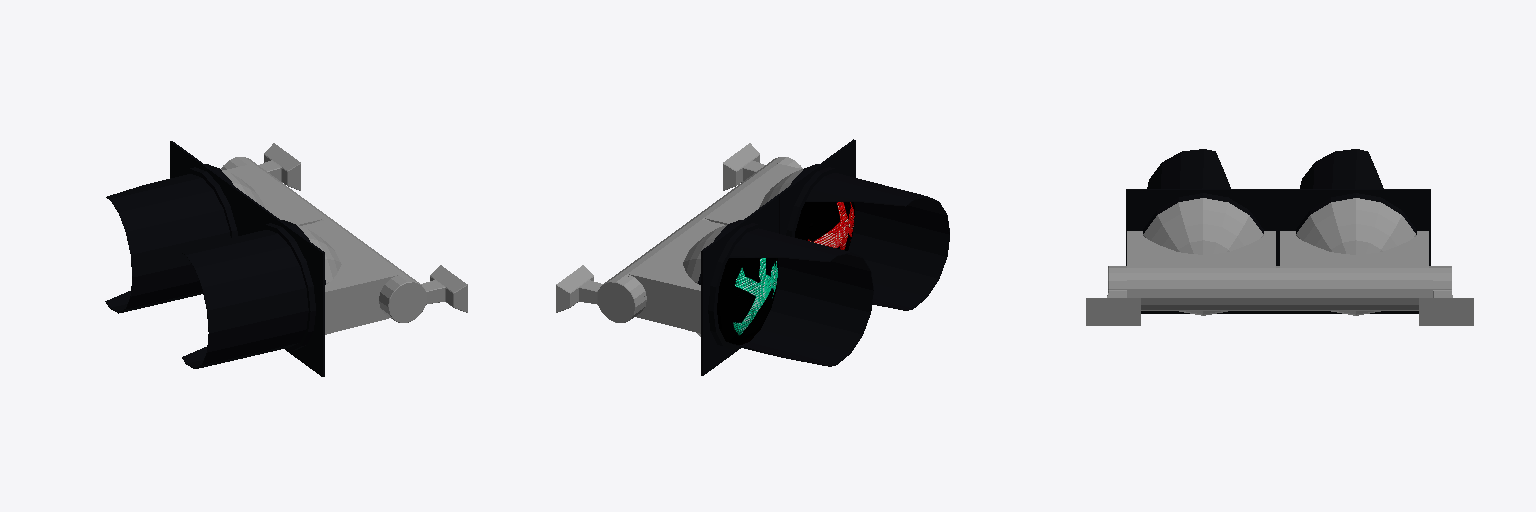
3 renders of one model, left to right at view 1: azimuth 30°, elevation 25°; view 2: azimuth 150°, elevation 25°; view 3: azimuth 270°, elevation 25°, orthographic.
Visible parts, largest first — view 1: Sonnenblende.002_Cylinder.002, Sonnenblende.001_Cylinder.002, Cube.004_Cube.002, Masthalterung_Cylinder.004, Blende.002_Cube.004, Cube.003_Cube.002, BezierCurve.020, Blende.001_Cube.004, Masthalterung.001_Cylinder.004, BezierCurve.018; view 2: Sonnenblende.001_Cylinder.002, Sonnenblende.002_Cylinder.002, BezierCurve.018, Cube.003_Cube.002, BezierCurve.020, Masthalterung.001_Cylinder.004, Blende.001_Cube.004, Cube.004_Cube.002, Blende.002_Cube.004, Masthalterung_Cylinder.004; view 3: Cube.003_Cube.002, Cube.004_Cube.002, BezierCurve.020, BezierCurve.018, Blende.001_Cube.004, Blende.002_Cube.004, Sonnenblende.002_Cylinder.002, Sonnenblende.001_Cylinder.002, Masthalterung.001_Cylinder.004, Masthalterung_Cylinder.004.
Boxes of the visible parts, box(x1,y1,x2,y2) form: Sonnenblende.002_Cylinder.002: box(182, 230, 308, 368); Sonnenblende.001_Cylinder.002: box(105, 174, 230, 313); Cube.004_Cube.002: box(302, 219, 409, 334); Masthalterung_Cylinder.004: box(379, 265, 467, 322); Blende.002_Cube.004: box(246, 196, 324, 376); Cube.003_Cube.002: box(225, 163, 333, 225); BezierCurve.020: box(254, 220, 341, 351); Blende.001_Cube.004: box(170, 141, 247, 235); Masthalterung.001_Cylinder.004: box(221, 143, 300, 190); BezierCurve.018: box(177, 164, 264, 237); Sonnenblende.001_Cylinder.002: box(729, 228, 873, 366); Sonnenblende.002_Cylinder.002: box(806, 173, 949, 310); BezierCurve.018: box(683, 220, 778, 350); Cube.003_Cube.002: box(614, 219, 724, 333); BezierCurve.020: box(759, 164, 854, 250); Masthalterung.001_Cylinder.004: box(556, 265, 644, 322); Blende.001_Cube.004: box(701, 195, 778, 375); Cube.004_Cube.002: box(690, 163, 800, 224); Blende.002_Cube.004: box(778, 139, 855, 234); Masthalterung_Cylinder.004: box(723, 143, 802, 190); Cube.003_Cube.002: box(1280, 231, 1432, 310); Cube.004_Cube.002: box(1127, 231, 1279, 310); BezierCurve.020: box(1143, 193, 1263, 315); BezierCurve.018: box(1296, 193, 1416, 315); Blende.001_Cube.004: box(1278, 189, 1430, 313); Blende.002_Cube.004: box(1126, 189, 1277, 313); Sonnenblende.002_Cylinder.002: box(1147, 149, 1230, 188); Sonnenblende.001_Cylinder.002: box(1300, 149, 1383, 188); Masthalterung.001_Cylinder.004: box(1419, 266, 1473, 325); Masthalterung_Cylinder.004: box(1086, 266, 1140, 325).
Size of the model in its own units: 0.4823 by 0.2502 by 0.7067.
4 materials, 4 textured.